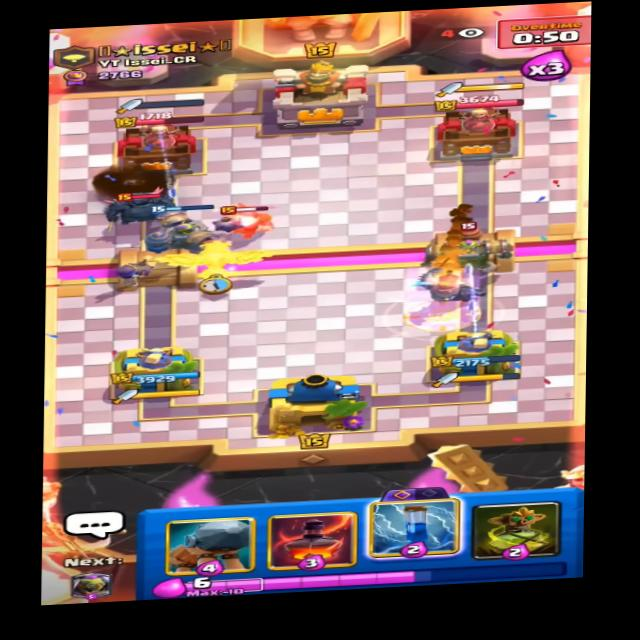goblin-machine: (422, 213, 525, 269)
knight: (218, 202, 282, 246)
pekka: (101, 186, 186, 230)
